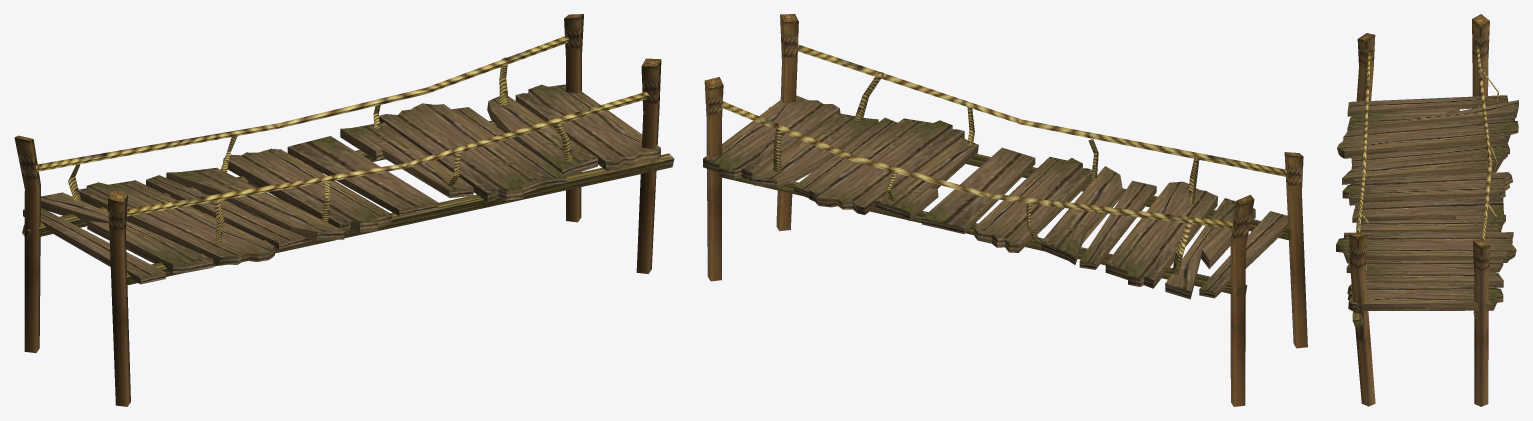
Rendered from S_Build_Maya086.FBX.
3 renders of one model, left to right at view 1: azimuth 30°, elevation 25°; view 2: azimuth 150°, elevation 25°; view 3: azimuth 270°, elevation 25°, orthographic. The views are drawn at different scales.
Parts seen in each view (by area): view 1: S_Build_Maya086; view 2: S_Build_Maya086; view 3: S_Build_Maya086.
Part boxes in pixels (<box>): S_Build_Maya086: <box>14,14,674,406</box>; S_Build_Maya086: <box>703,14,1307,406</box>; S_Build_Maya086: <box>1336,14,1518,406</box>.
Bounding box in the file's own units: 1108 × 382 × 399.
